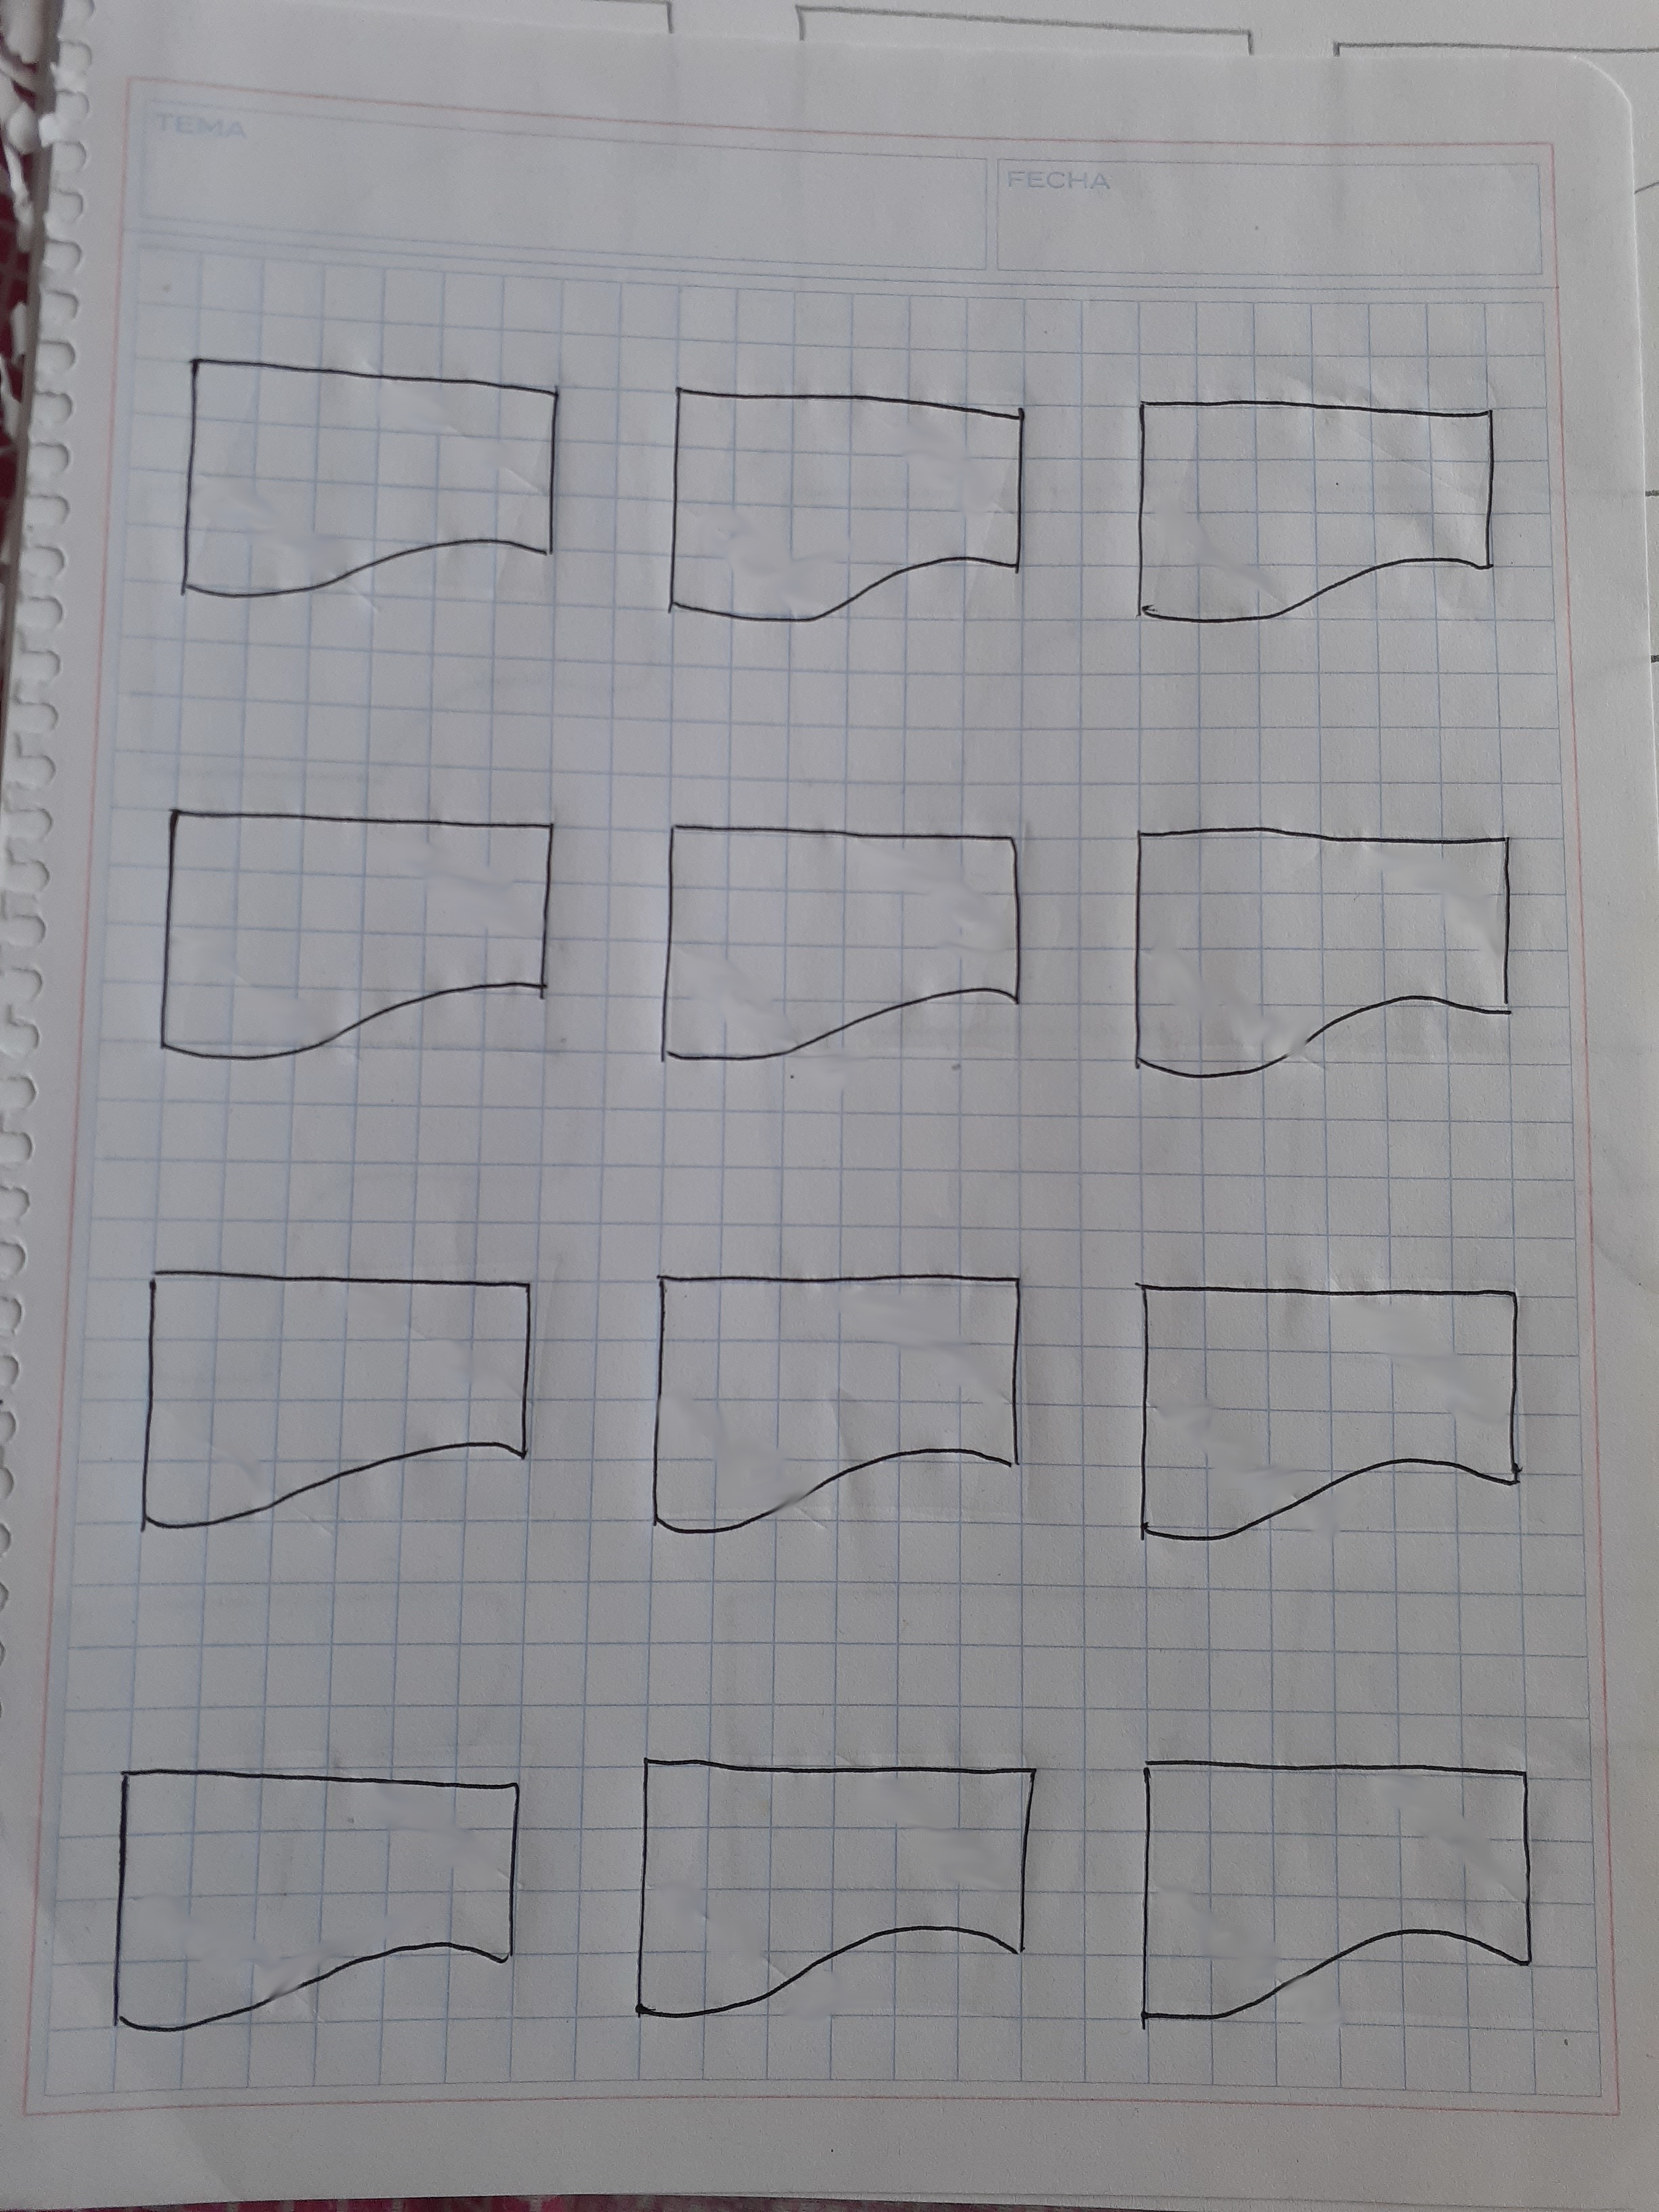print: (129, 773, 587, 1134), (1129, 1709, 1560, 2078), (110, 1221, 552, 1576), (620, 1238, 1051, 1580), (1115, 1242, 1539, 1583), (620, 1730, 1058, 2059), (85, 1743, 544, 2048), (1122, 794, 1535, 1127), (143, 303, 580, 601), (652, 798, 1051, 1106), (662, 336, 1037, 658), (1112, 374, 1520, 665)
